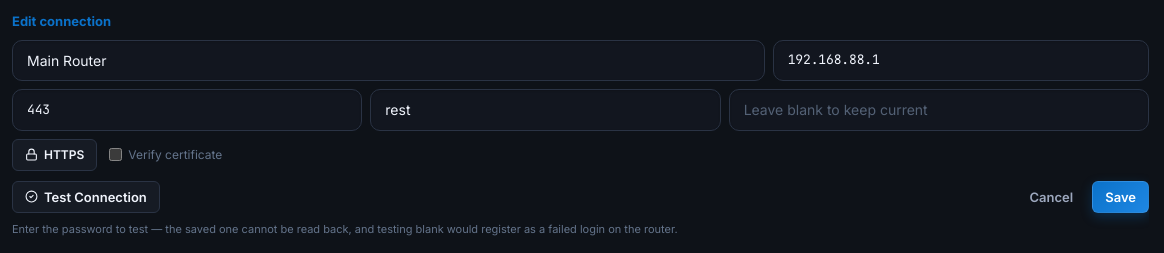
testing the connection › drops a stale verdict when the settings it judged are changed
In the password field with placeholder "Leave blank to keep current": (939, 110) x1=729 y1=89 x2=1149 y2=131, type "secret"
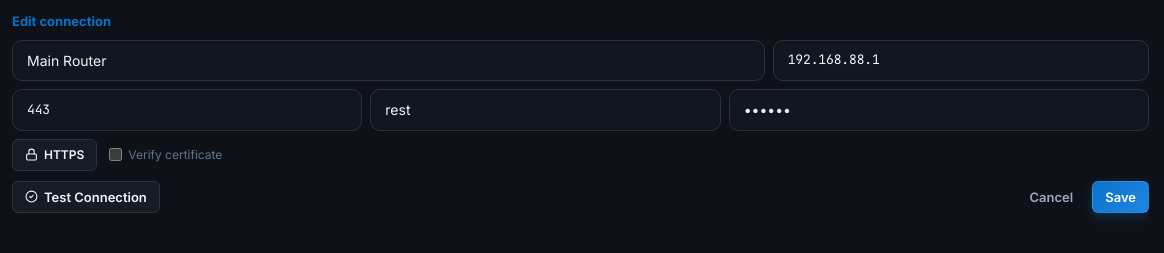
Click the button "Test Connection": click(86, 197) x1=12 y1=181 x2=160 y2=213
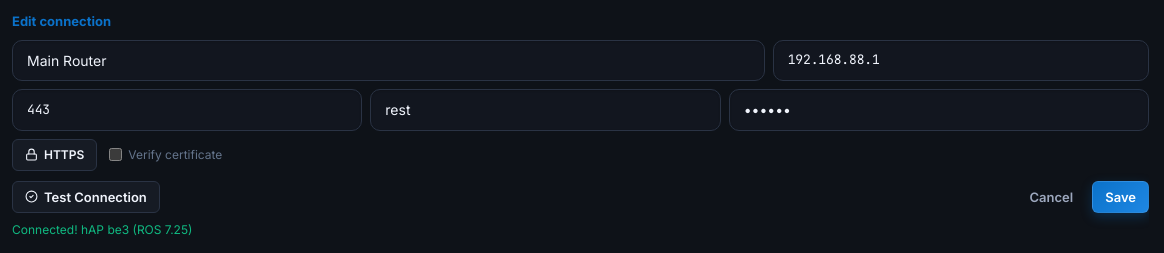
Now the text "Connected! hAP be3 (ROS 7.25)" is shown, box x1=12 y1=222 x2=192 y2=237
In the 2nd field showing "192.168.88.1": (961, 60) x1=773 y1=40 x2=1149 y2=81, type "10.0.0.1"
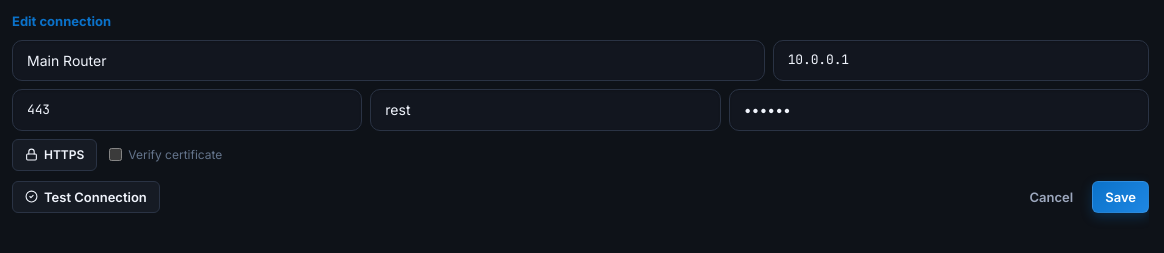
Now the text "hAP be3" is gone
